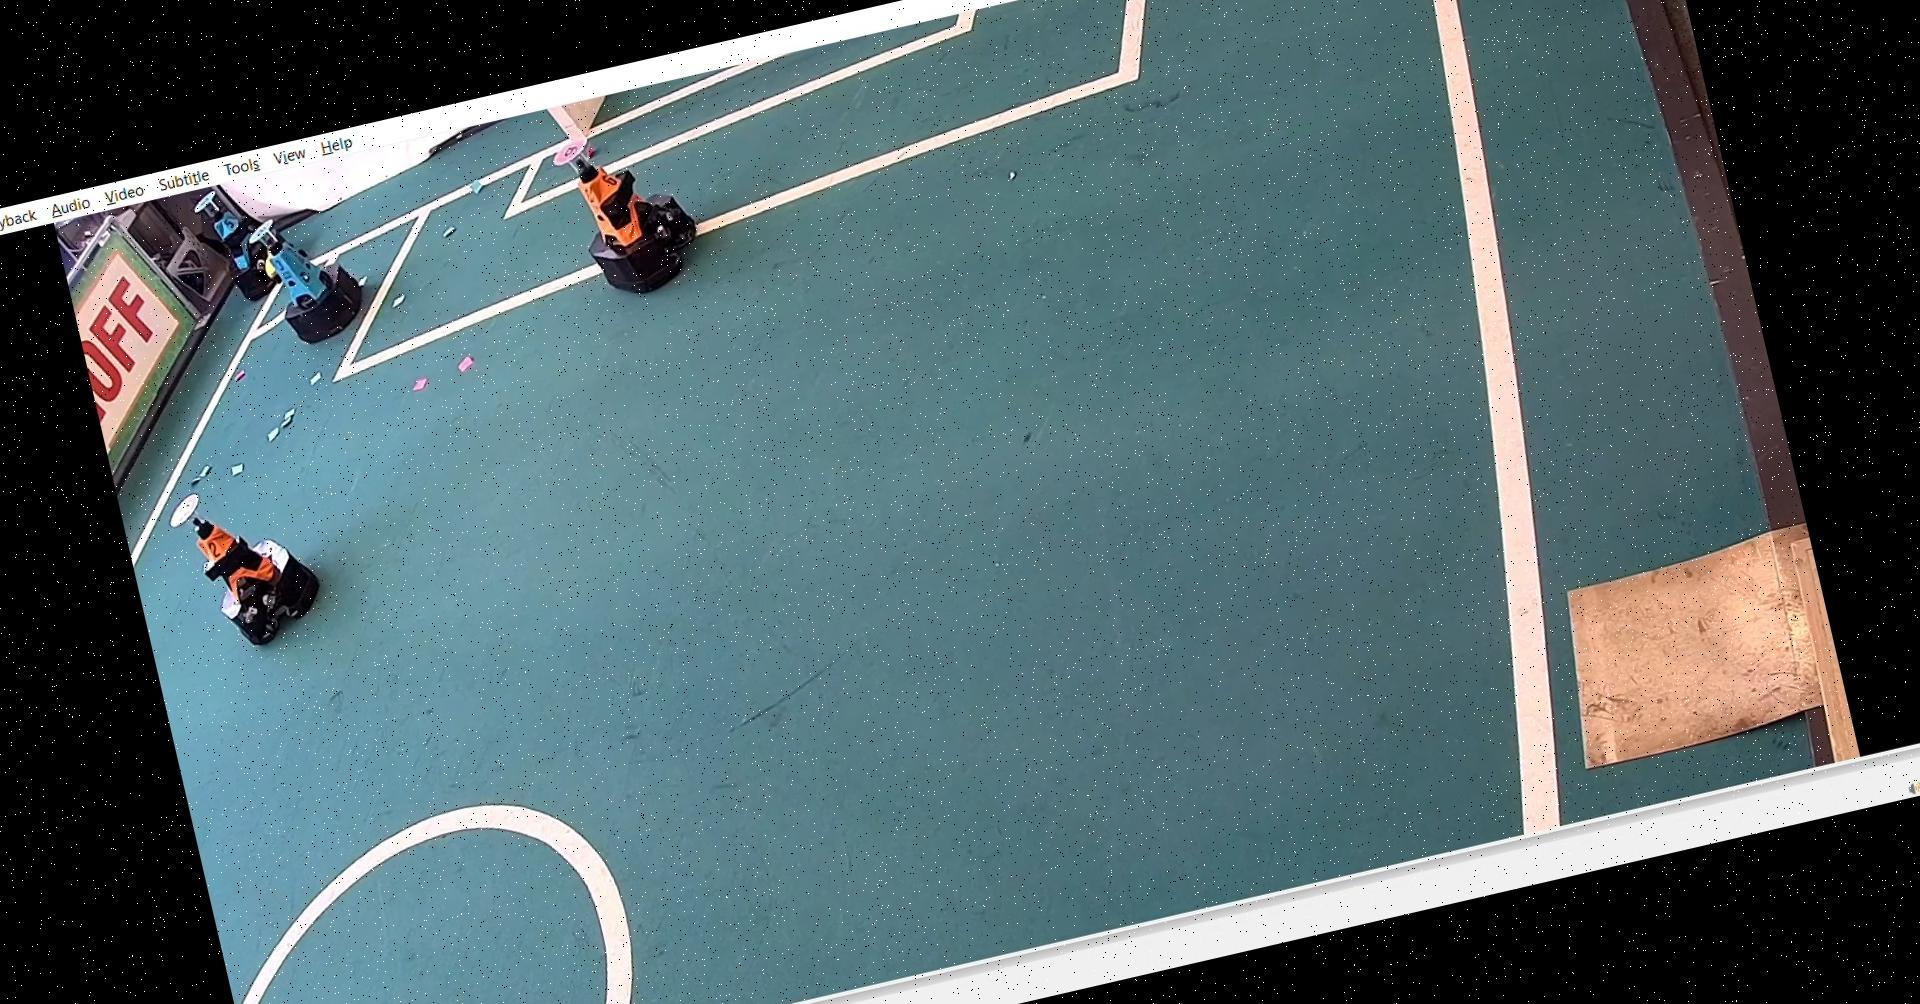Ball: (259, 251, 290, 283)
Team_Blue: (248, 201, 371, 352), (189, 176, 303, 312)
Team_Red: (543, 113, 712, 308), (163, 467, 331, 660)
